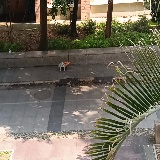fire: (63, 60, 70, 66)
